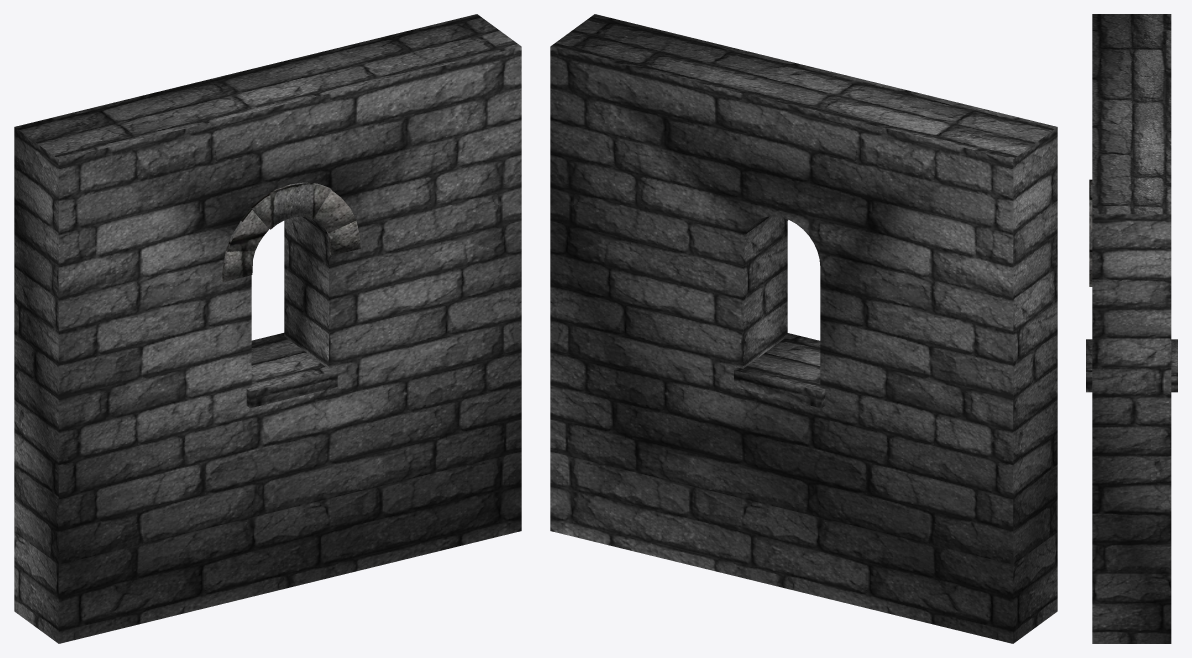
Rendered from stone wall window3.glb.
3 views of the same model, side by side, from view 1: azimuth 30°, elevation 25°; view 2: azimuth 150°, elevation 25°; view 3: azimuth 270°, elevation 25° (orthographic). The views are drawn at different scales.
Visible parts, largest first — view 1: Arch Window Wall; view 2: Arch Window Wall; view 3: Arch Window Wall.
Part boxes in pixels (bbox=[...]): Arch Window Wall: bbox=[14, 14, 521, 643]; Arch Window Wall: bbox=[550, 14, 1057, 643]; Arch Window Wall: bbox=[1086, 14, 1177, 643].
Size of the model in its own units: 2.74 by 2.74 by 0.5305.
Materials: 2 (2 with a texture image).
